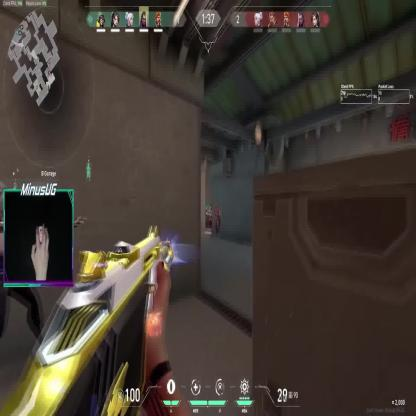enemy: (214, 206, 220, 238), (207, 205, 213, 228)
enemy_head: (216, 206, 219, 211), (209, 207, 212, 210)
